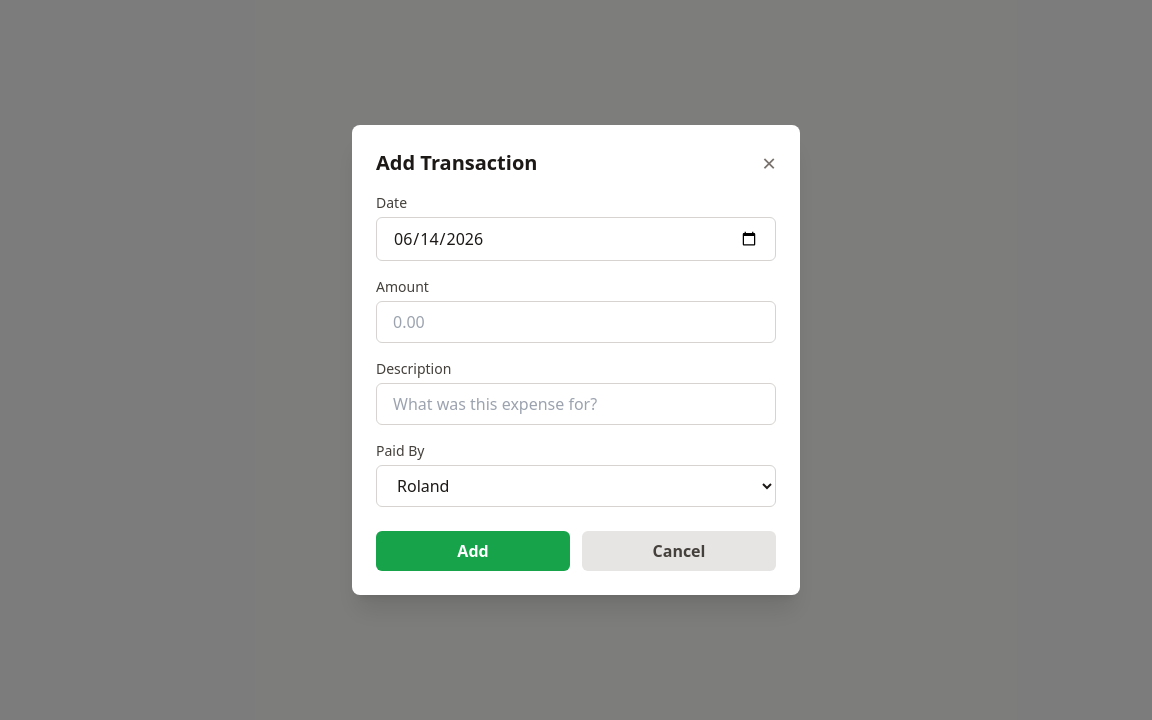
Test: AddTransactionPopup › validates that description is required
This screenshot has width=1152, height=720.
Type "10.00" into the field labelled "Amount" at (576, 322), box [376,301,776,343]
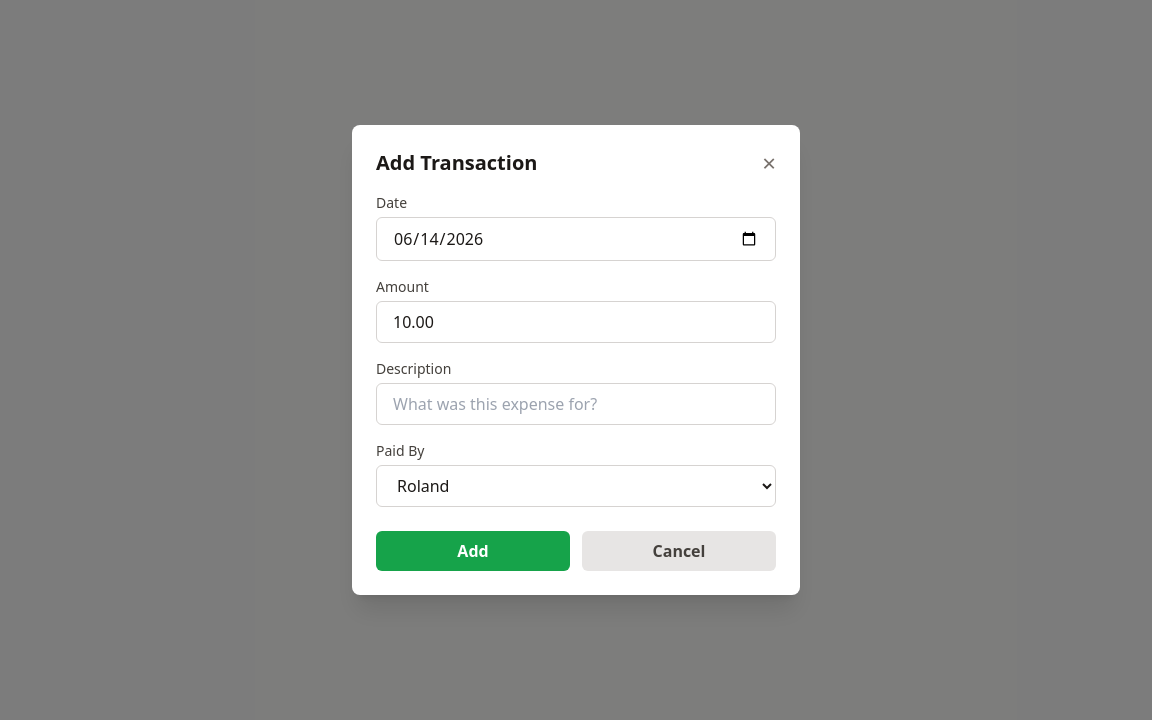
Note: Leave description empty
Click the button "Add" at (473, 551), box [376,531,570,571]
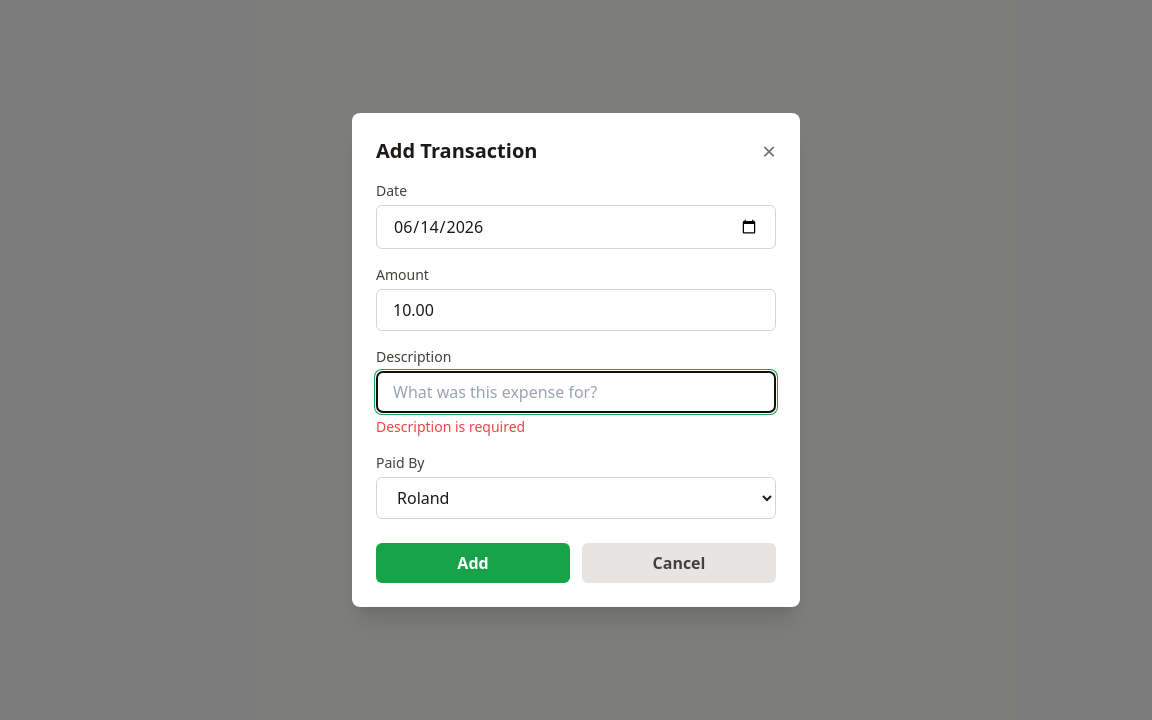
Expected: the text "Description is required" is shown, [376,417,525,436]
